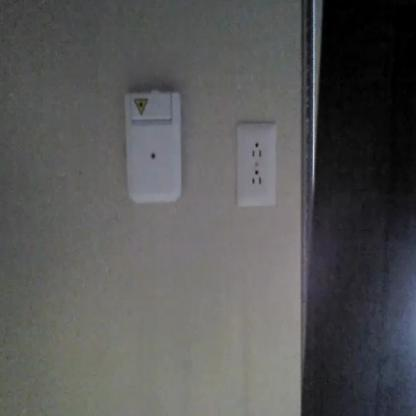OUTLET: (236, 122, 276, 208)
